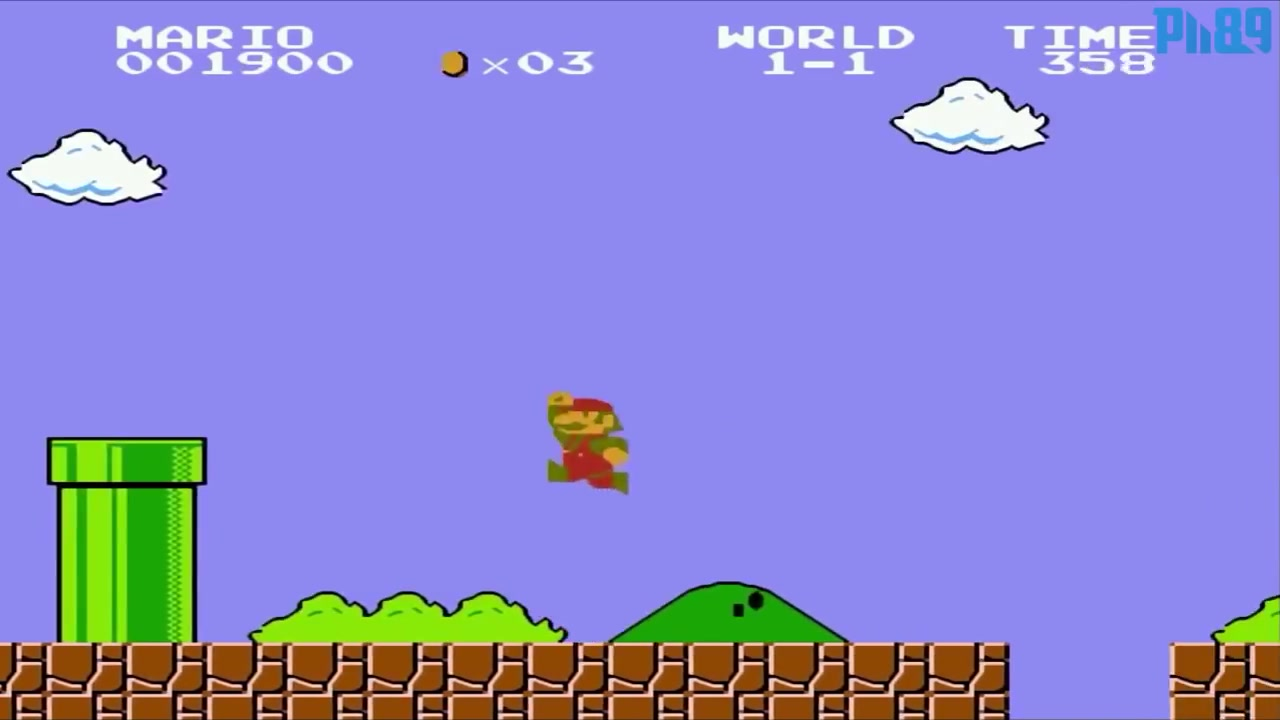mario: (536, 387, 640, 501)
